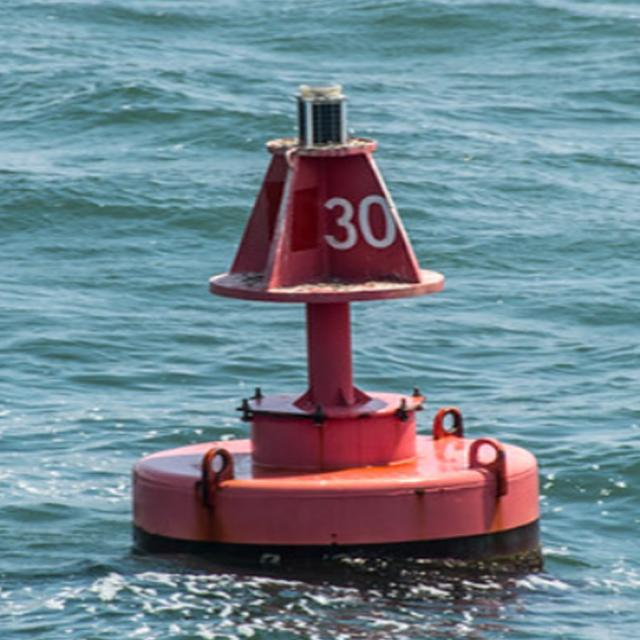buoy: (115, 78, 547, 557)
